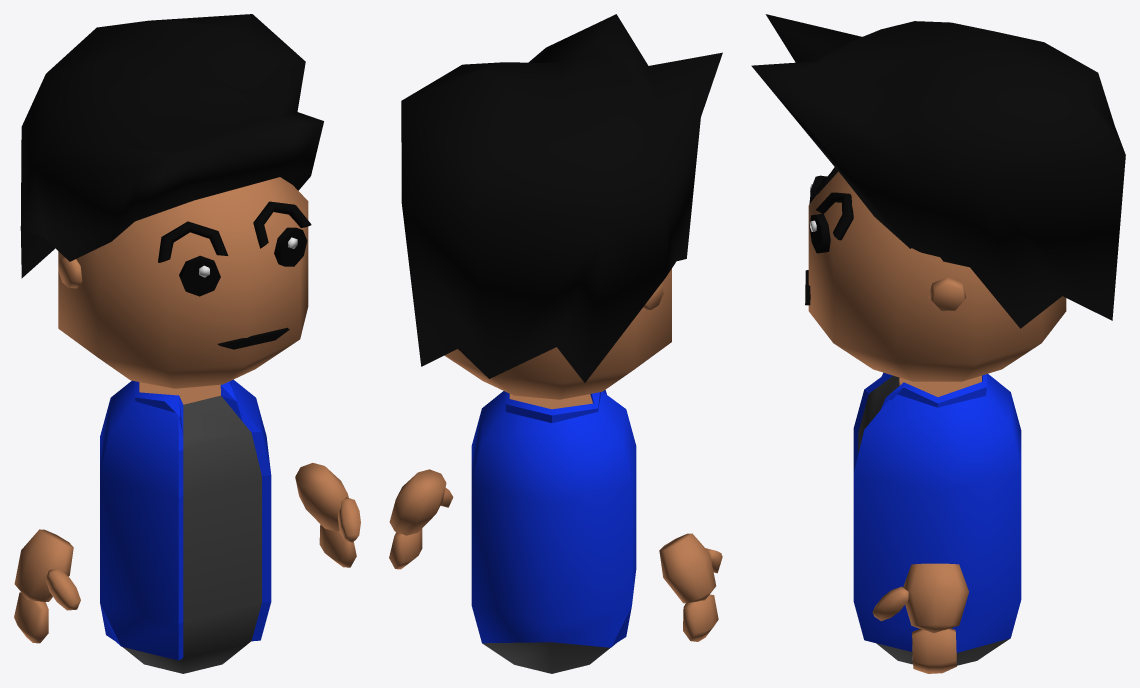
File: hombre_4.fbx
3 renders of one model, left to right at view 1: azimuth 30°, elevation 25°; view 2: azimuth 150°, elevation 25°; view 3: azimuth 270°, elevation 25°, orthographic. The views are drawn at different scales.
Visible parts, largest first — view 1: Pelo003, Cabeza003, Camisa, Cuerpo001, Palma Izquerda006, Palma Izquerda007, Dedos Izquierdos006, Ojo Derecho003, Ceja Derecha003, Dedos Izquierdos007, DedoPulga Izquierdo007, Ceja Izquierda003 (+5 smaller); view 2: Pelo003, Camisa, Cabeza003, Palma Izquerda006, Cuerpo001, Palma Izquerda007, Dedos Izquierdos006, Dedos Izquierdos007, Cuerpo; view 3: Pelo003, Camisa, Cabeza003, Palma Izquerda007, Dedos Izquierdos007, Cuerpo001, Oreja Derecha007, Ceja Izquierda003, Cuerpo, DedoPulga Izquierdo006, Ojo Izquierdo003.
Part boxes in pixels (box(x1,y1,x2,y2)): Pelo003: box(20, 14, 323, 278); Cabeza003: box(58, 177, 308, 388); Camisa: box(100, 379, 271, 660); Cuerpo001: box(123, 395, 261, 673); Palma Izquerda006: box(14, 529, 73, 601); Palma Izquerda007: box(295, 463, 348, 531); Dedos Izquierdos006: box(14, 592, 48, 643); Ojo Derecho003: box(179, 255, 220, 296); Ceja Derecha003: box(158, 221, 228, 262); Dedos Izquierdos007: box(319, 524, 356, 567); DedoPulga Izquierdo007: box(45, 569, 80, 610); Ceja Izquierda003: box(253, 201, 311, 248); Pelo003: box(401, 14, 722, 382); Camisa: box(471, 390, 636, 647); Cabeza003: box(444, 269, 671, 399); Palma Izquerda006: box(659, 533, 716, 603); Cuerpo001: box(482, 642, 610, 673); Palma Izquerda007: box(389, 469, 446, 535); Dedos Izquierdos006: box(683, 594, 718, 641); Dedos Izquierdos007: box(389, 528, 422, 569); Cuerpo: box(509, 394, 592, 409); Pelo003: box(751, 14, 1125, 328); Camisa: box(853, 372, 1021, 652); Cabeza003: box(808, 171, 1066, 381); Palma Izquerda007: box(903, 563, 968, 633); Dedos Izquierdos007: box(912, 628, 956, 673); Cuerpo001: box(858, 375, 1010, 665); Oreja Derecha007: box(928, 277, 966, 310); Ceja Izquierda003: box(816, 192, 853, 240); Cuerpo: box(899, 375, 981, 396); DedoPulga Izquierdo006: box(872, 586, 908, 621); Ojo Izquierdo003: box(809, 213, 830, 253).
Bounding box in the file's own units: 1.41 × 2.54 × 1.38.
